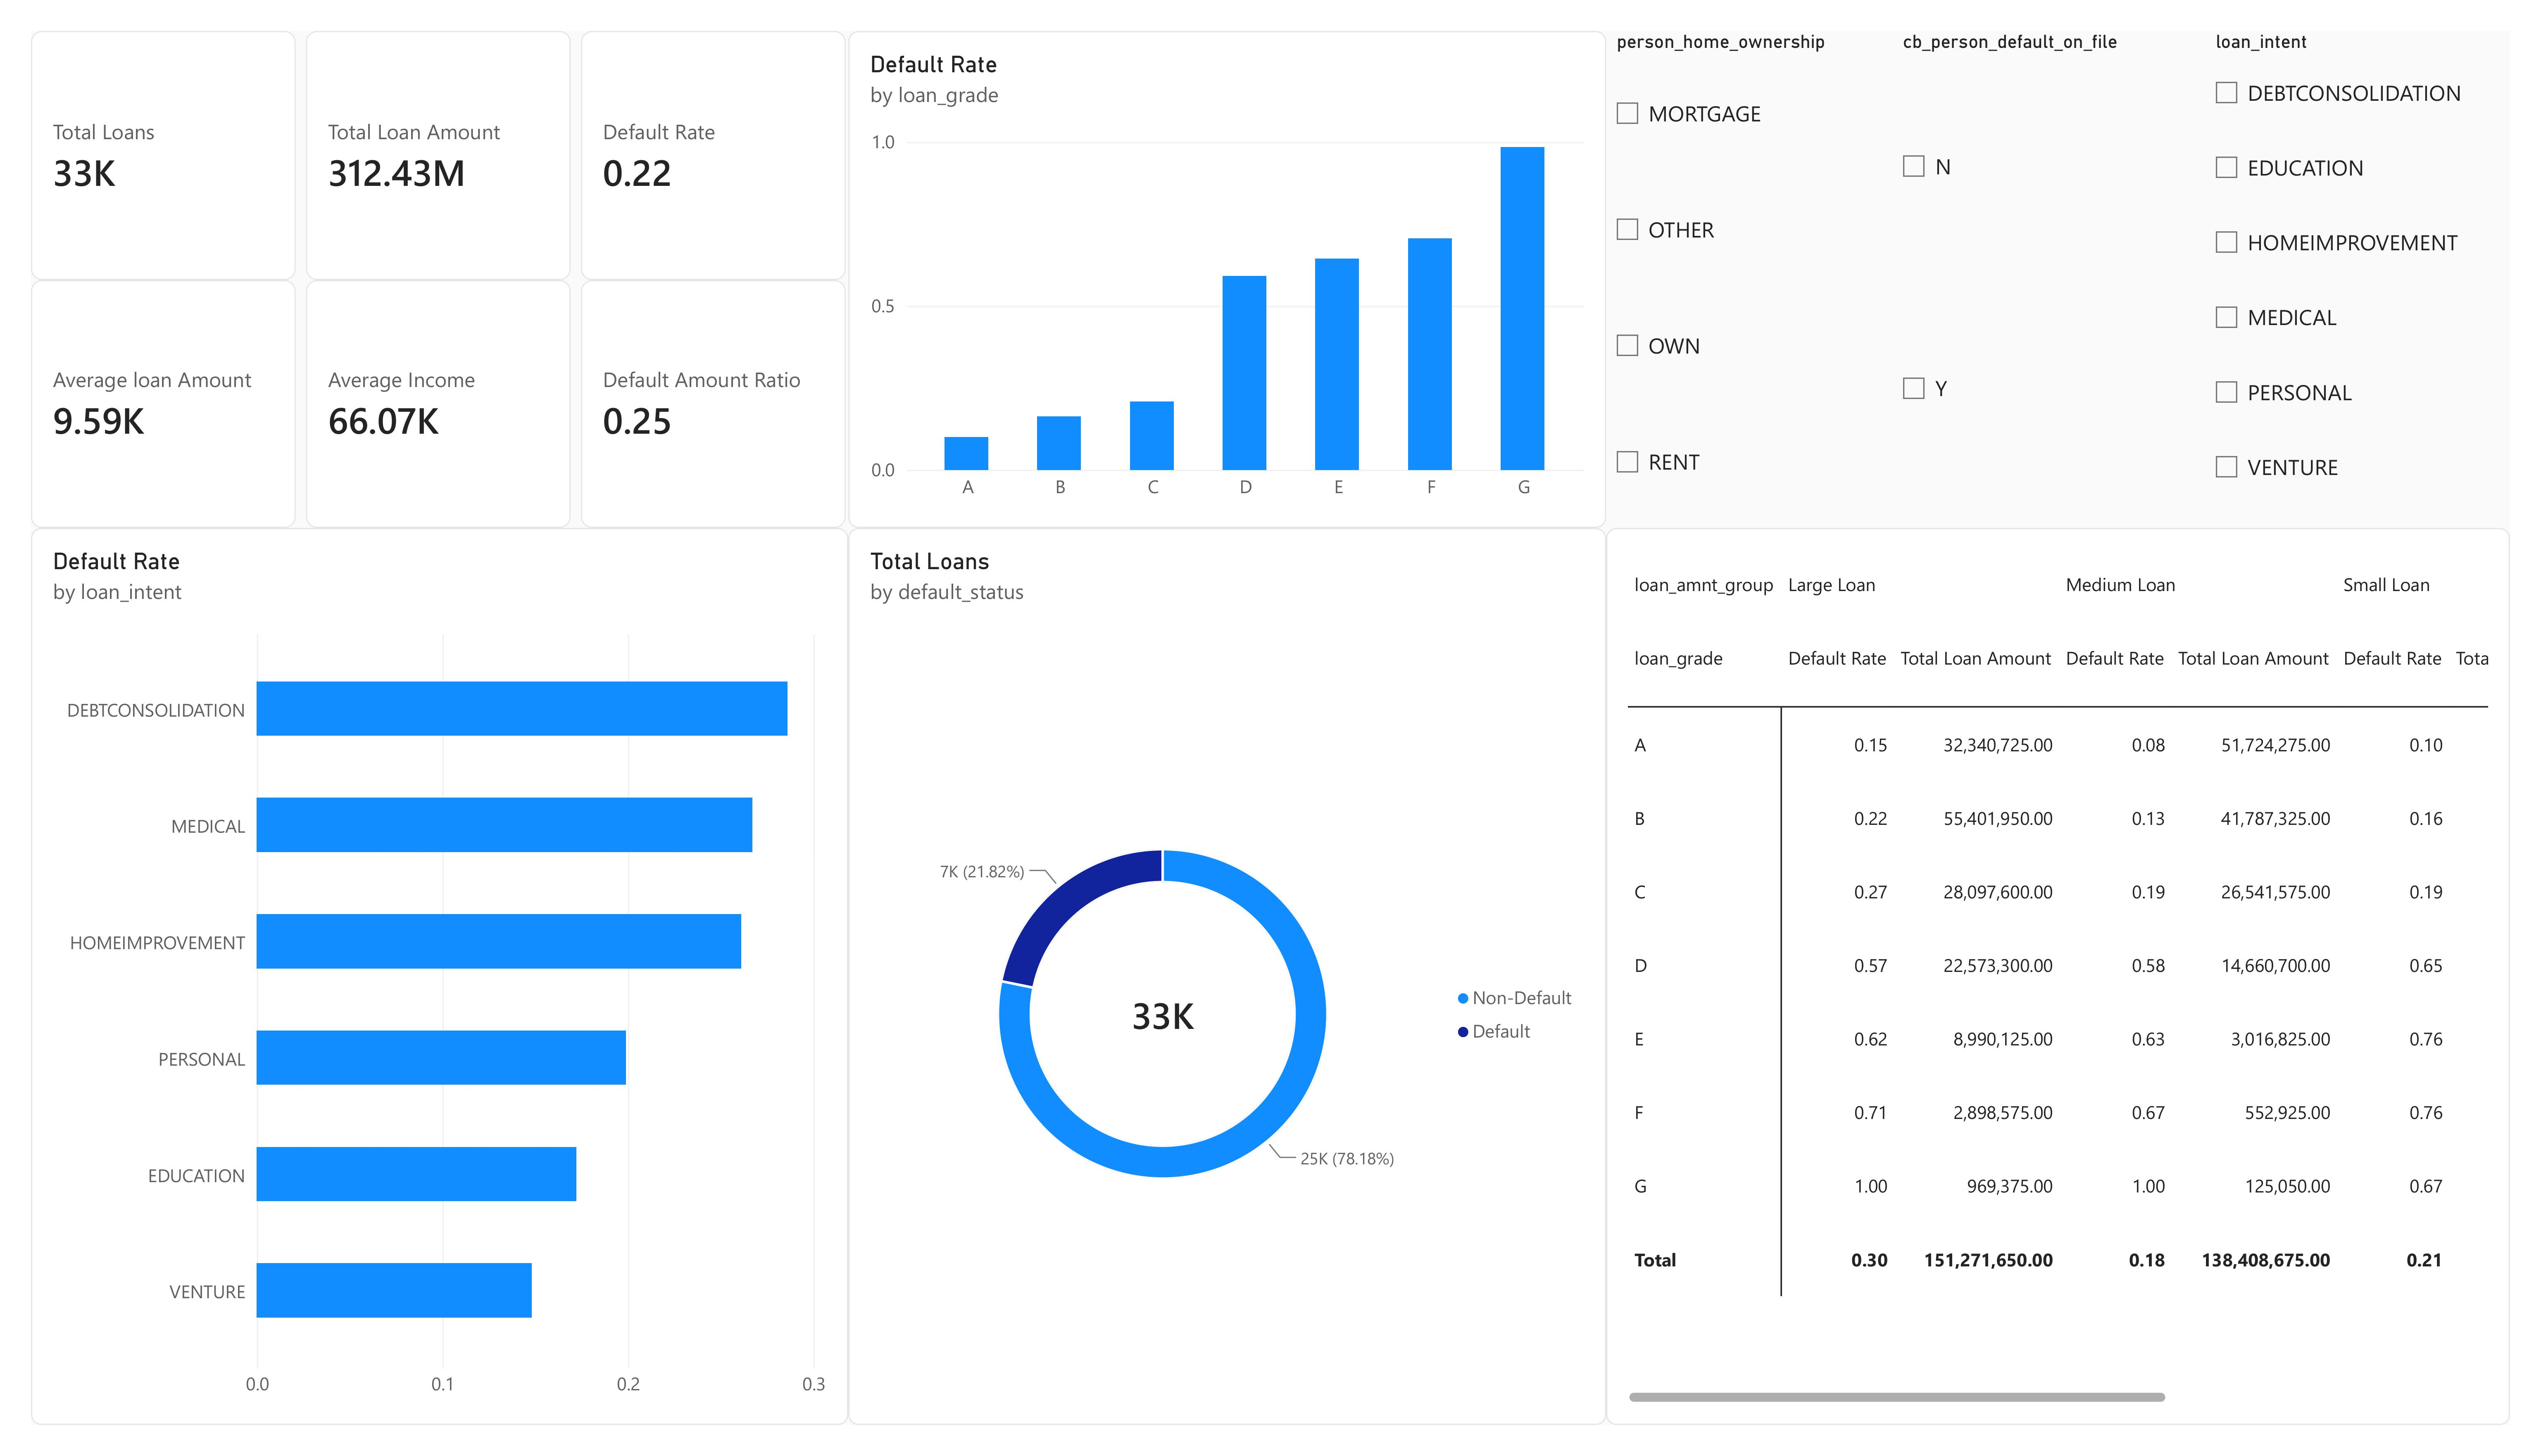

Layout of this report page (visuals, bound fields, positions):
{"tool":"powerbi","page":{"name":"Executive Summary","canvas":[1920,1080],"ordinal":0},"visuals":[{"type":"cardVisual","fields":{"Data":["credit_risk_dataset.Total Loans","credit_risk_dataset.Total Loan Amount","credit_risk_dataset.Default Rate"]},"box":[0,0,632.5,192.5],"z":0},{"type":"cardVisual","fields":{"Data":["credit_risk_dataset.Average loan Amount","credit_risk_dataset.Average Income","credit_risk_dataset.Default Amount Ratio"]},"box":[0,192.5,632.5,192.5],"z":1},{"type":"columnChart","fields":{"Category":["credit_risk_dataset.loan_grade"],"Y":["credit_risk_dataset.Default Rate"]},"box":[632.5,0,587.5,385],"z":2},{"type":"barChart","fields":{"Category":["credit_risk_dataset.loan_intent"],"Y":["credit_risk_dataset.Default Rate"]},"box":[0,385,632.5,695],"z":3},{"type":"donutChart","fields":{"Category":["credit_risk_dataset.default_status"],"Y":["credit_risk_dataset.Total Loans"]},"box":[632.5,385,587.5,695],"z":4},{"type":"pivotTable","fields":{"Columns":["credit_risk_dataset.loan_amnt_group"],"Rows":["credit_risk_dataset.loan_grade"],"Values":["credit_risk_dataset.Default Rate","credit_risk_dataset.Total Loan Amount"]},"box":[1220,385,700,695],"z":5},{"type":"slicer","fields":{"Values":["credit_risk_dataset.person_home_ownership"]},"box":[1220,0,222.5,385],"z":6},{"type":"slicer","fields":{"Values":["credit_risk_dataset.cb_person_default_on_file"]},"box":[1442,0,240,386],"z":8},{"type":"slicer","fields":{"Values":["credit_risk_dataset.loan_intent"]},"box":[1684,0,236,386],"z":9}]}

Visuals, with their boxes on the page's 1920x1080 design canvas (x1, y1, x2, y2). These are canvas units, not pixel positions in the 2541x1456 screenshot, which may show the page scaled, cropped or inside an application window:
cardVisual - credit_risk_dataset.Total Loans x credit_risk_dataset.Total Loan Amount: 0 0 632 192
cardVisual - credit_risk_dataset.Average loan Amount x credit_risk_dataset.Average Income: 0 192 632 385
columnChart - credit_risk_dataset.loan_grade x credit_risk_dataset.Default Rate: 632 0 1220 385
barChart - credit_risk_dataset.loan_intent x credit_risk_dataset.Default Rate: 0 385 632 1080
donutChart - credit_risk_dataset.default_status x credit_risk_dataset.Total Loans: 632 385 1220 1080
pivotTable - credit_risk_dataset.loan_amnt_group x credit_risk_dataset.loan_grade: 1220 385 1920 1080
slicer - credit_risk_dataset.person_home_ownership: 1220 0 1442 385
slicer - credit_risk_dataset.cb_person_default_on_file: 1442 0 1682 386
slicer - credit_risk_dataset.loan_intent: 1684 0 1920 386
